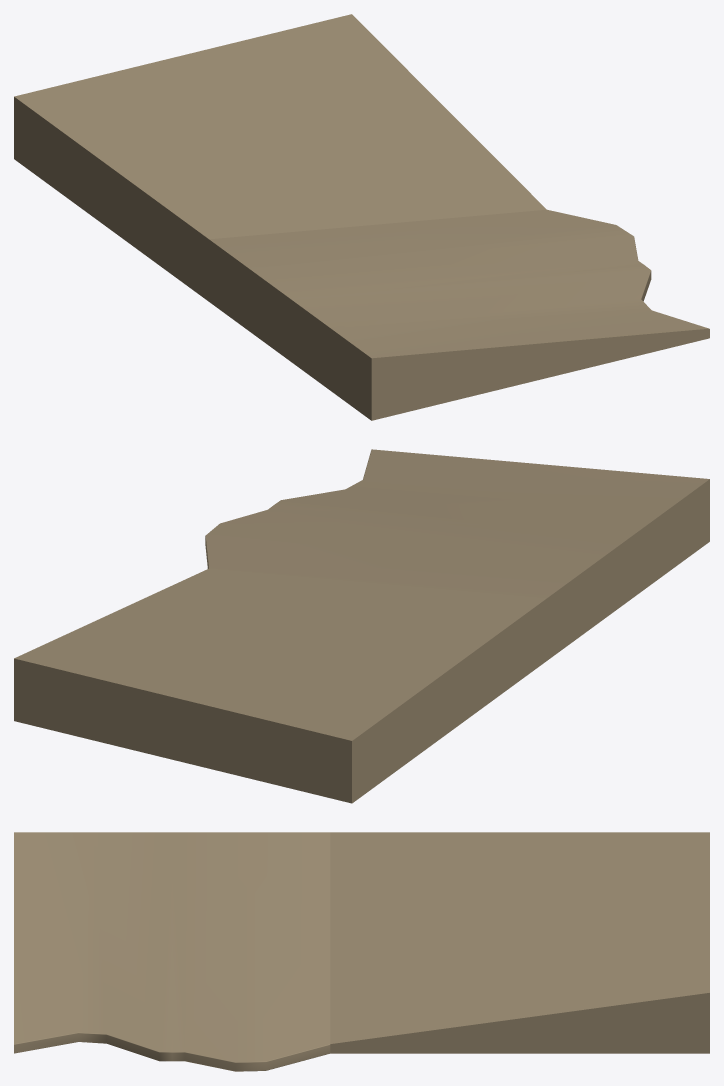
The model's file is Ground End2.fbx.
The picture shows the model from 3 angles, top to bottom: view 1: azimuth 30°, elevation 25°; view 2: azimuth 150°, elevation 25°; view 3: azimuth 270°, elevation 25°; orthographic projection. The views are drawn at different scales.
Parts seen in each view (by area): view 1: pCube40; view 2: pCube40; view 3: pCube40.
Boxes of the visible parts, <box> form: pCube40: <box>14,14,709,420</box>; pCube40: <box>14,449,709,803</box>; pCube40: <box>14,832,709,1071</box>.
Bounding box in the file's own units: 7.01 × 1.11 × 11.54.
